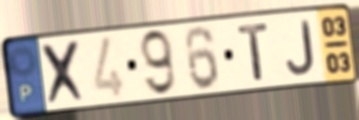4: (91, 33, 128, 102)
6: (183, 24, 221, 94)
9: (138, 28, 178, 99)
J: (284, 18, 317, 77)
T: (235, 21, 271, 83)
X: (38, 38, 90, 108)
